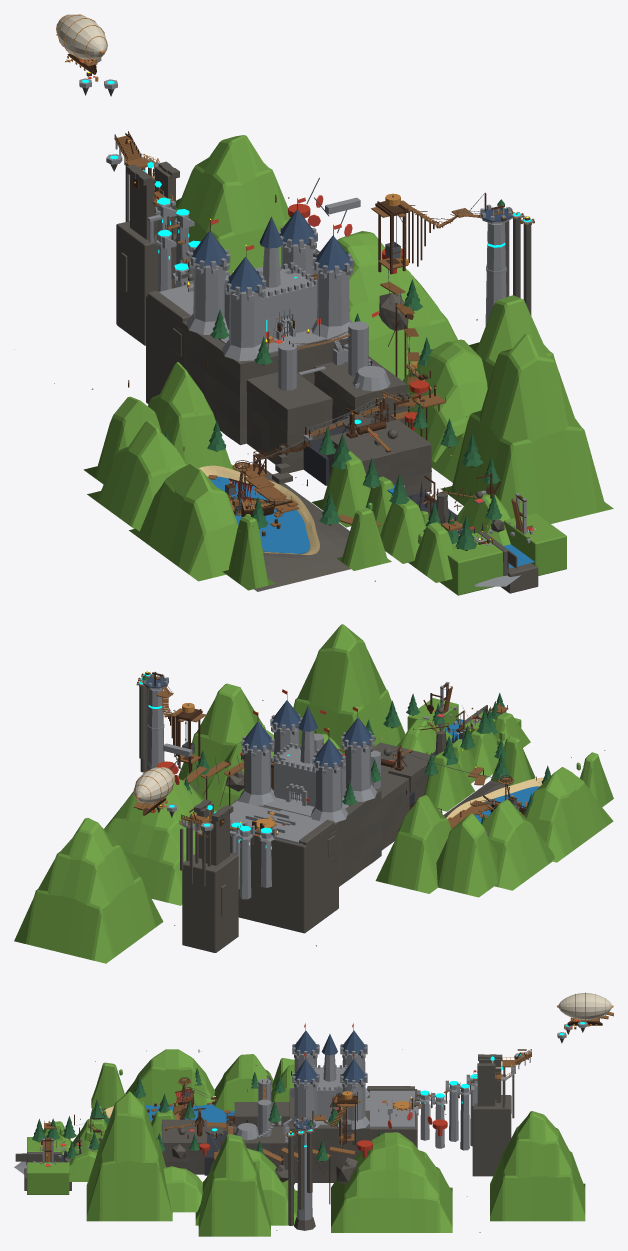
The model's file is Forest_Castle_Coop_Map.fbx.
The picture shows the model from 3 angles, top to bottom: view 1: azimuth 30°, elevation 25°; view 2: azimuth 150°, elevation 25°; view 3: azimuth 270°, elevation 25°; orthographic projection. The views are drawn at different scales.
Parts seen in each view (by area): view 1: East_Plateau_Rock_5, East_Plateau_Rock_3, Cove_Cliff_1, East_Plateau_Rock_2, Citadel_Peak_Base, Rampart_Plateau_Base, East_Plateau_Rock_1, Cove_Cliff_2, Cove_Cliff_4, Plateau_Z3_Base, Zone5_Pier_Spire, Cove_Bedrock_Base (+26 smaller); view 2: East_Plateau_Rock_3, East_Plateau_Rock_5, East_Plateau_Rock_2, Zone5_Courtyard_Base, Cove_Cliff_1, Zone5_Pier_Spire, Cove_Cliff_4, Cove_Cliff_2, Cove_Cliff_3, East_Plateau_Rock_4, Citadel_Peak_Base, Cliff_L_Back (+30 smaller); view 3: East_Plateau_Rock_2, East_Plateau_Rock_5, East_Plateau_Rock_3, East_Plateau_Rock_4, Cove_Cliff_1, Zone5_Pier_Rock_R, Citadel_Peak_Base, Cove_Cliff_2, East_Plateau_Rock_1, Plateau_Z3_Base, East_Plateau_Rock_0, Summit_Courtyard_Terrace (+27 smaller).
Part boxes in pixels (left/top/right/bottom): East_Plateau_Rock_5: left=440, top=334, right=613, bottom=523; East_Plateau_Rock_3: left=176, top=135, right=290, bottom=274; Cove_Cliff_1: left=129, top=463, right=238, bottom=581; East_Plateau_Rock_2: left=313, top=231, right=457, bottom=379; Citadel_Peak_Base: left=180, top=321, right=348, bottom=445; Rampart_Plateau_Base: left=246, top=372, right=332, bottom=472; East_Plateau_Rock_1: left=402, top=339, right=487, bottom=462; Cove_Cliff_2: left=87, top=420, right=187, bottom=531; Cove_Cliff_4: left=148, top=362, right=238, bottom=471; Plateau_Z3_Base: left=327, top=419, right=431, bottom=495; Zone5_Pier_Spire: left=116, top=221, right=176, bottom=343; Cove_Bedrock_Base: left=238, top=464, right=350, bottom=591; East_Plateau_Rock_3: left=14, top=818, right=163, bottom=963; East_Plateau_Rock_5: left=293, top=624, right=405, bottom=753; East_Plateau_Rock_2: left=104, top=779, right=216, bottom=905; Zone5_Courtyard_Base: left=230, top=802, right=338, bottom=933; Cove_Cliff_1: left=524, top=767, right=613, bottom=862; Zone5_Pier_Spire: left=182, top=853, right=238, bottom=952; Cove_Cliff_4: left=375, top=795, right=451, bottom=893; Cove_Cliff_2: left=482, top=799, right=554, bottom=890; Cove_Cliff_3: left=436, top=813, right=497, bottom=897; East_Plateau_Rock_4: left=178, top=683, right=266, bottom=796; Citadel_Peak_Base: left=234, top=789, right=382, bottom=886; Cliff_L_Back: left=424, top=751, right=474, bottom=811; East_Plateau_Rock_2: left=331, top=1132, right=452, bottom=1232; East_Plateau_Rock_5: left=86, top=1091, right=172, bottom=1221; East_Plateau_Rock_3: left=490, top=1111, right=585, bottom=1221; East_Plateau_Rock_4: left=198, top=1134, right=270, bottom=1236; Cove_Cliff_1: left=125, top=1049, right=214, bottom=1105; Zone5_Pier_Rock_R: left=472, top=1106, right=509, bottom=1176; Citadel_Peak_Base: left=289, top=1088, right=370, bottom=1182; Cove_Cliff_2: left=214, top=1054, right=273, bottom=1110; East_Plateau_Rock_1: left=195, top=1148, right=297, bottom=1225; Plateau_Z3_Base: left=161, top=1119, right=207, bottom=1174; East_Plateau_Rock_0: left=163, top=1166, right=202, bottom=1212; Summit_Courtyard_Terrace: left=370, top=1090, right=414, bottom=1127.
Size of the model in its own units: 142 by 82.59 by 240.
